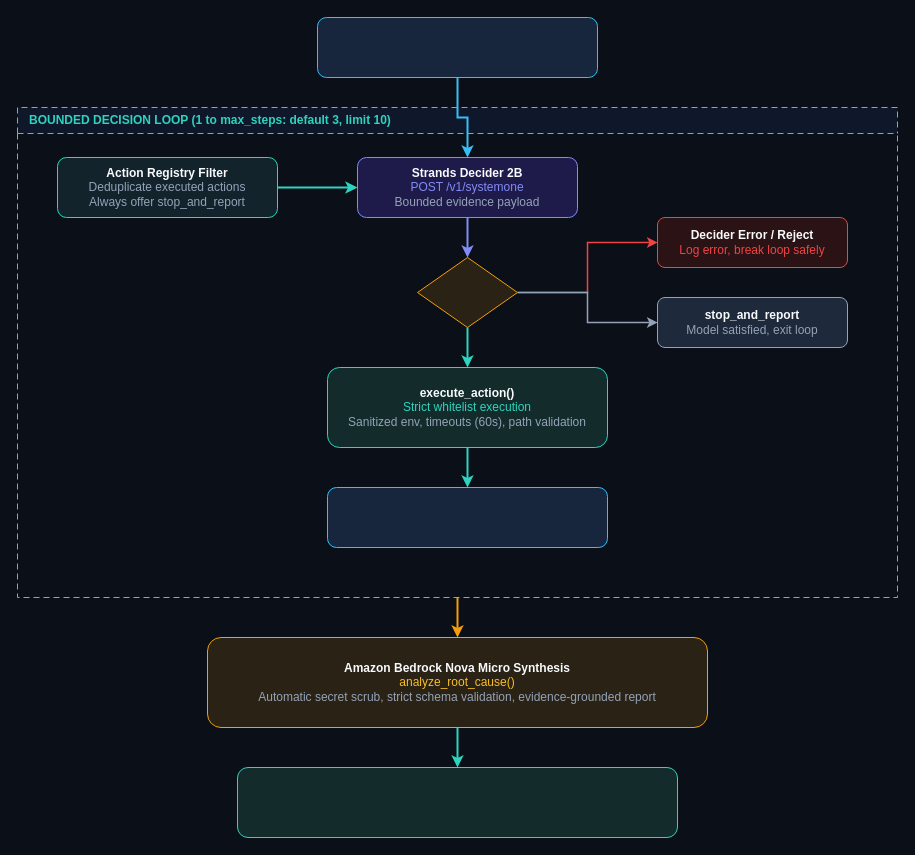
This 915x855 diagram has some shape labels left out. The shapes that lost their labels are listed below. From the top down, each one's centre as x and y in pixels, then its label:
(x=457, y=47): 1. Incident Input Target Project Path + Reported Error
(x=467, y=292): Validate Offered?
(x=467, y=517): summarize_result() & Append Record diagnostic output into evidence_history
(x=457, y=802): Unified Investigation Result RootCauseReport + Audit Log + Evidence Map
